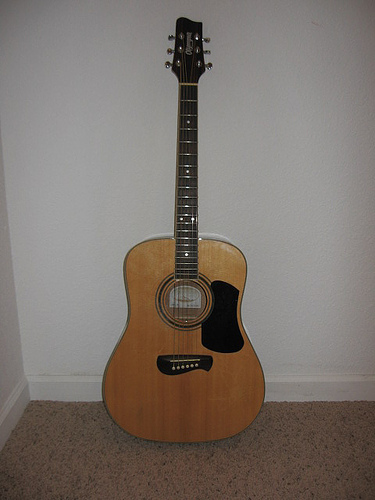guitar: (100, 16, 266, 445)
